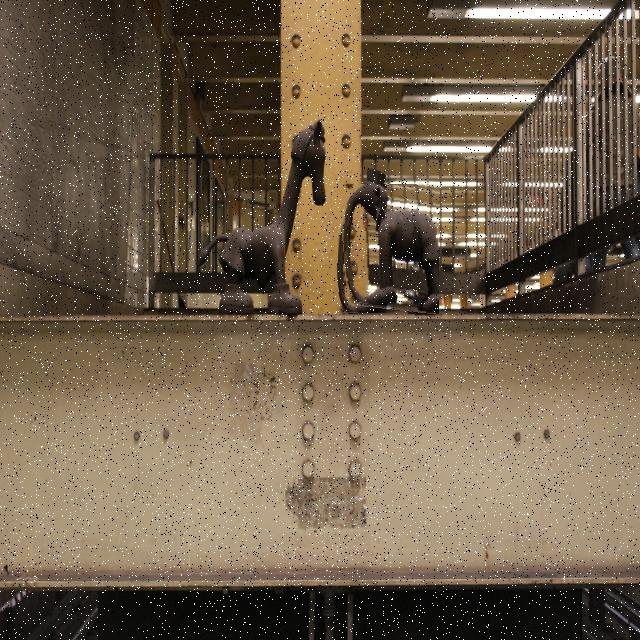elephant: (337, 184, 439, 316)
